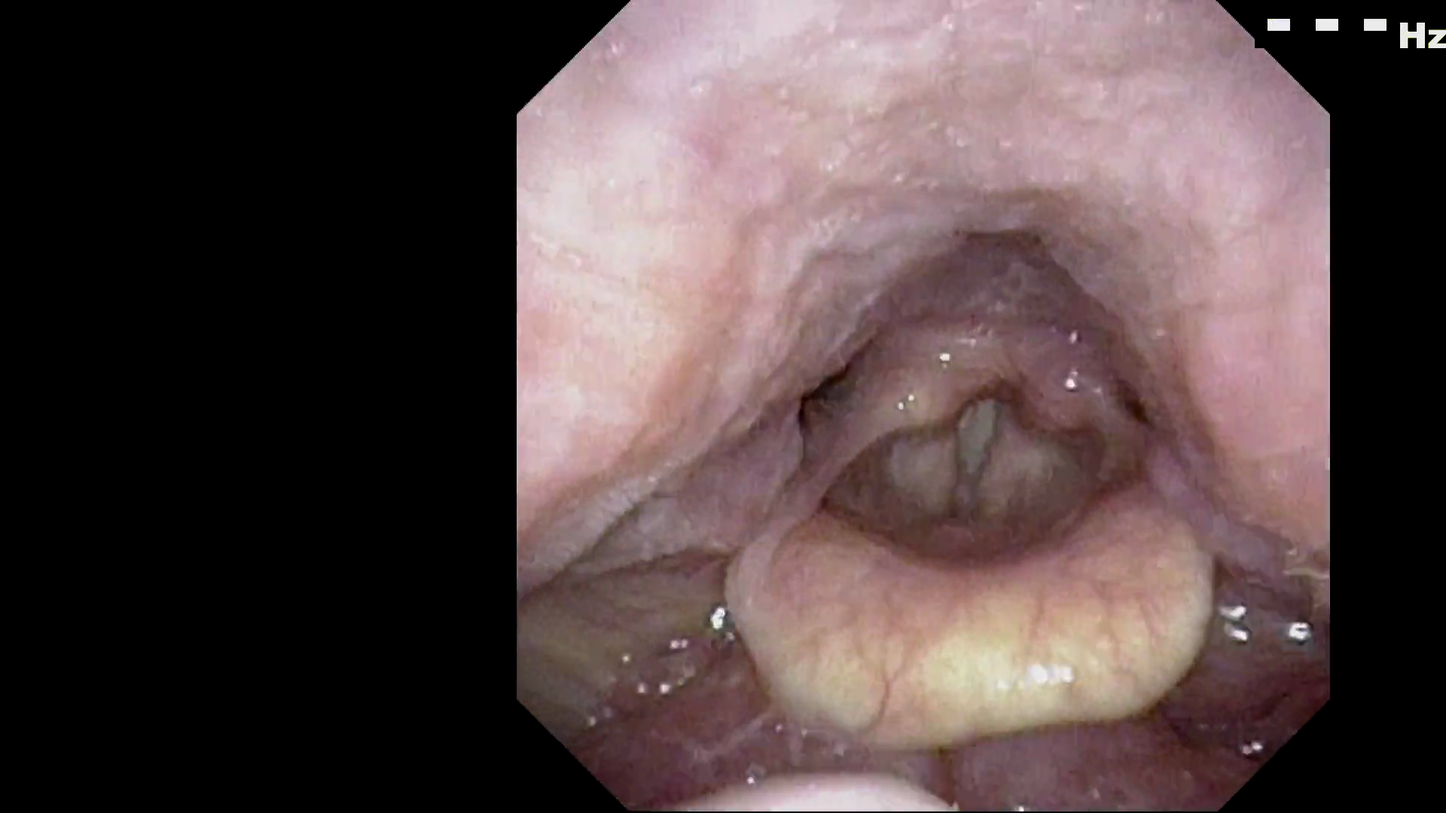epiglottis: (658, 469, 1288, 752)
trachea: (885, 355, 1052, 543)
